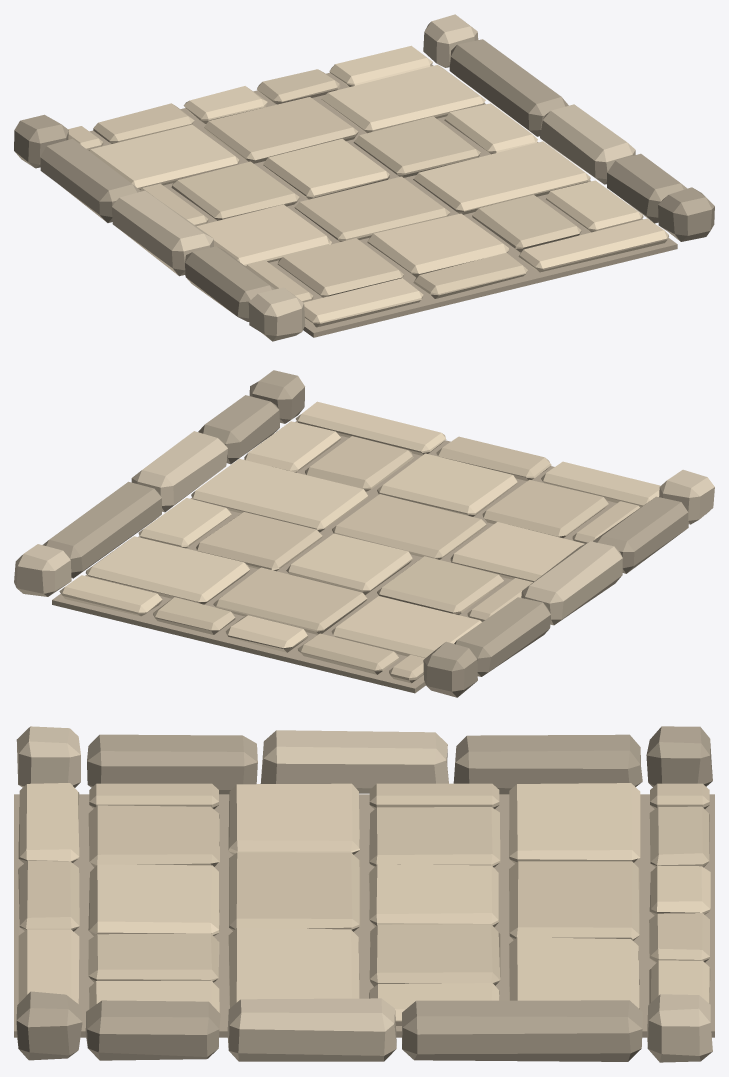
Rendered from straight_path_tile.glb.
3 views of the same model, one above another, from view 1: azimuth 30°, elevation 25°; view 2: azimuth 150°, elevation 25°; view 3: azimuth 270°, elevation 25° (orthographic). The views are drawn at different scales.
Visible parts, largest first — view 1: straight_path_tile; view 2: straight_path_tile; view 3: straight_path_tile.
Part boxes in pixels (x1,y1,x2,y2): straight_path_tile: (14, 14, 714, 341); straight_path_tile: (14, 370, 714, 697); straight_path_tile: (14, 726, 714, 1062).
Bounding box in the file's own units: 1.99 × 0.1716 × 2.
